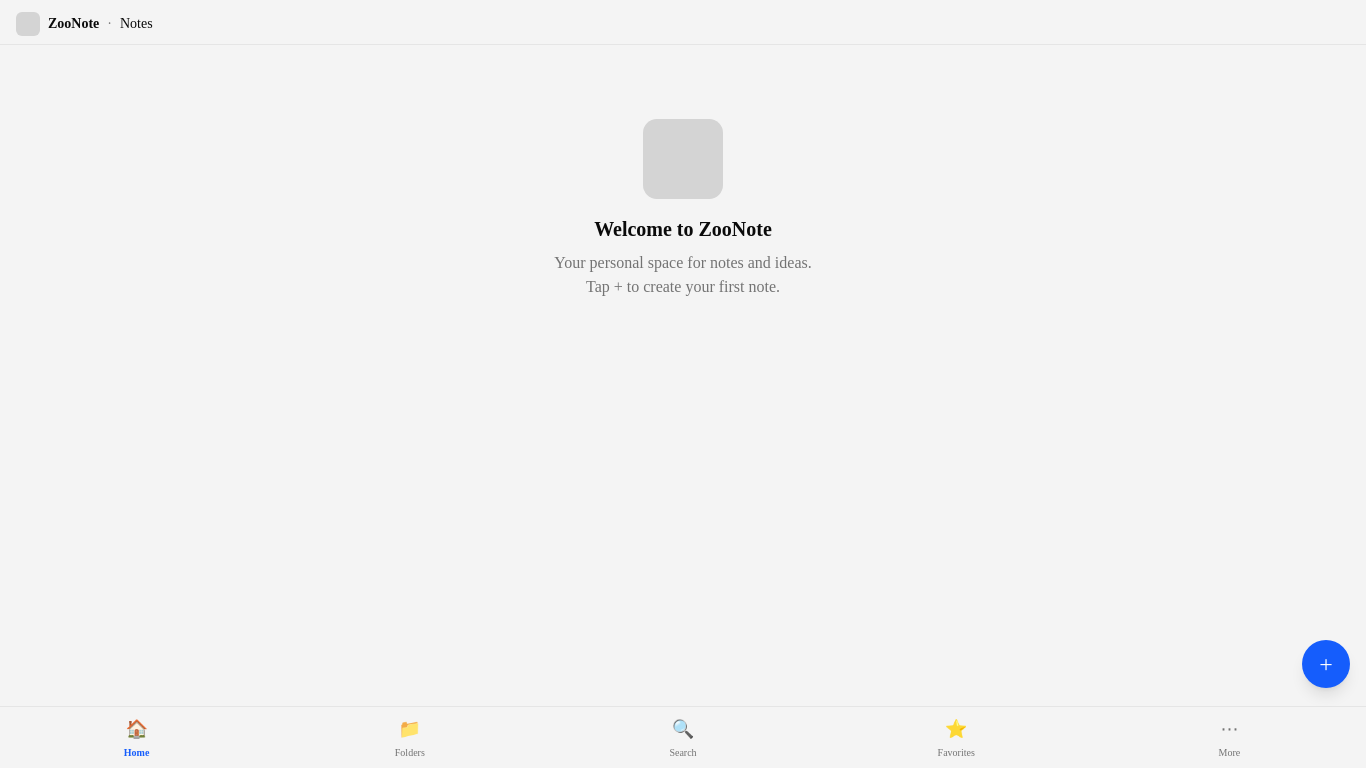
AppLayout › opens folder picker when FAB is clicked
This screenshot has width=1366, height=768.
What coordinates should you click on to do the following:
click the button "+"
I would click on:
 (1326, 664)
Its box is 1302,640 -> 1350,688.
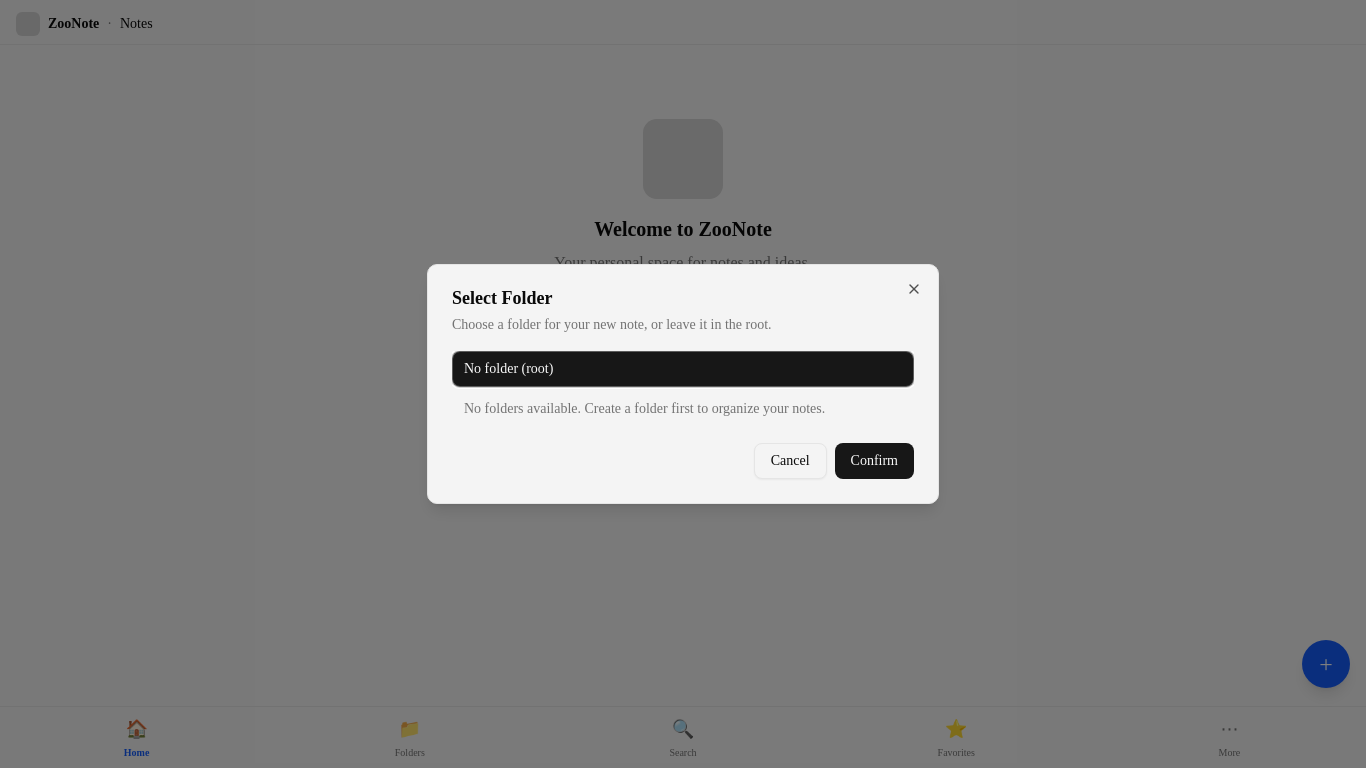
Check: the heading "Select Folder" is shown, box 452,288 -> 552,308
